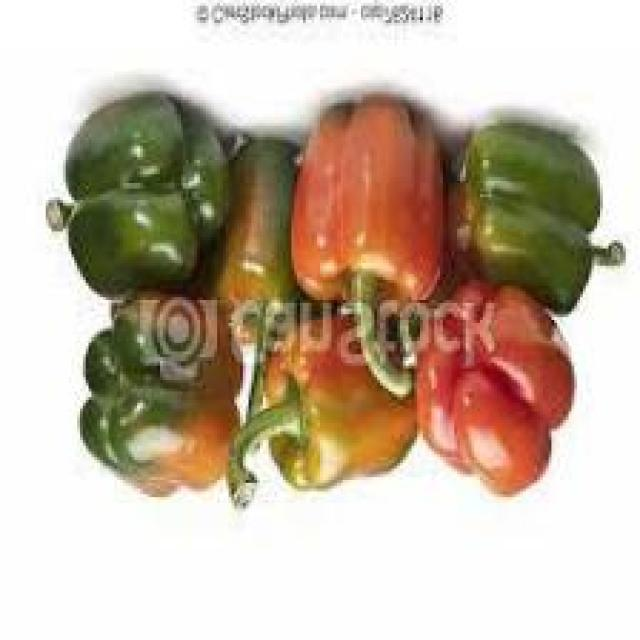Pepper: (49, 91, 234, 311), (289, 94, 454, 306), (414, 283, 574, 497), (77, 289, 240, 497), (463, 123, 623, 317), (266, 306, 417, 491)
